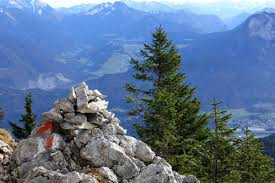mountain: (8, 6, 265, 101)
stone: (9, 85, 167, 181)
tree: (132, 24, 218, 183)
